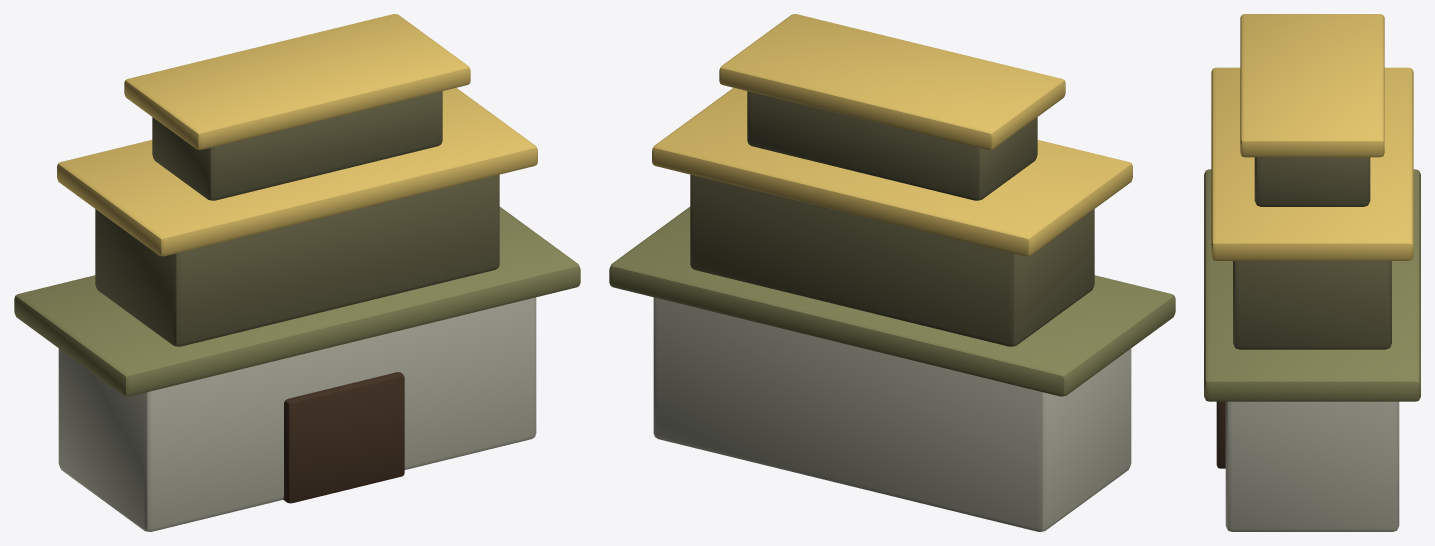
3 views of the same model, side by side, from view 1: azimuth 30°, elevation 25°; view 2: azimuth 150°, elevation 25°; view 3: azimuth 270°, elevation 25° (orthographic). The views are drawn at different scales.
Visible parts, largest first — view 1: landmark_1f52c9bf; view 2: landmark_1f52c9bf; view 3: landmark_1f52c9bf.
Part boxes in pixels (box(x1,y1,x2,y2)): landmark_1f52c9bf: box(14, 14, 580, 531); landmark_1f52c9bf: box(609, 14, 1175, 531); landmark_1f52c9bf: box(1204, 14, 1420, 531).
Size of the model in its own units: 7 by 5.59 by 3.
